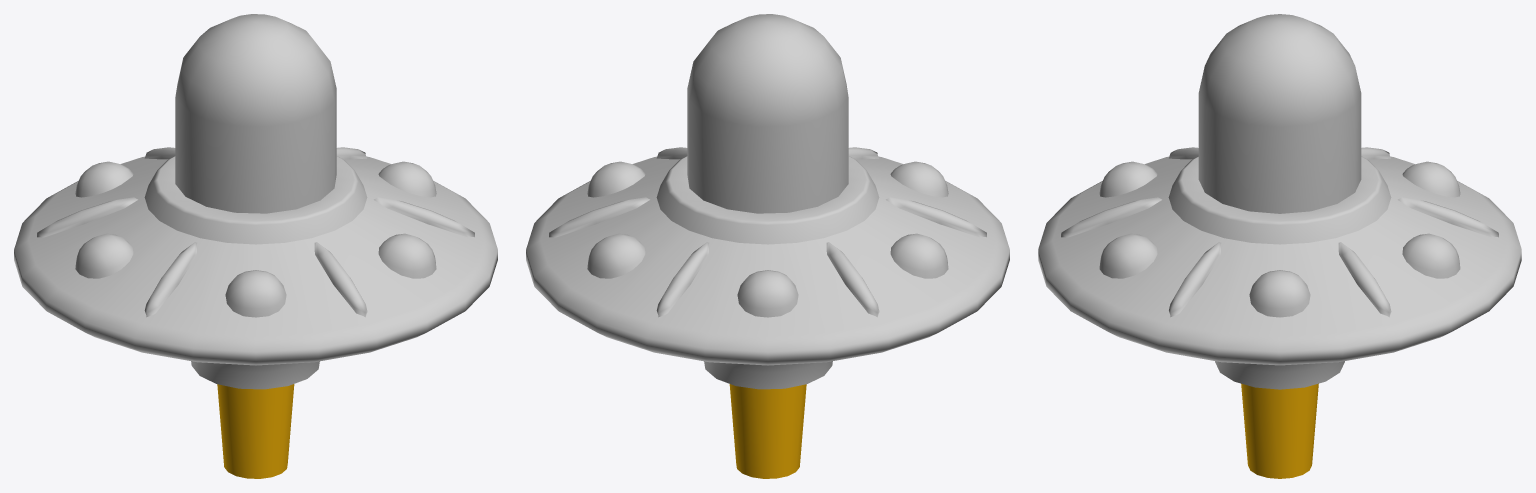
The model's file is ufo_002.fbx.
The picture shows the model from 3 angles, left to right: view 1: azimuth 30°, elevation 25°; view 2: azimuth 150°, elevation 25°; view 3: azimuth 270°, elevation 25°; orthographic projection.
Visible parts, largest first — view 1: ufo_002; view 2: ufo_002; view 3: ufo_002.
Part boxes in pixels (x1,y1,x2,y2): ufo_002: (14,14,497,478); ufo_002: (526,14,1009,478); ufo_002: (1038,14,1521,478).
Bounding box in the file's own units: 1061 × 1061 × 1073.
